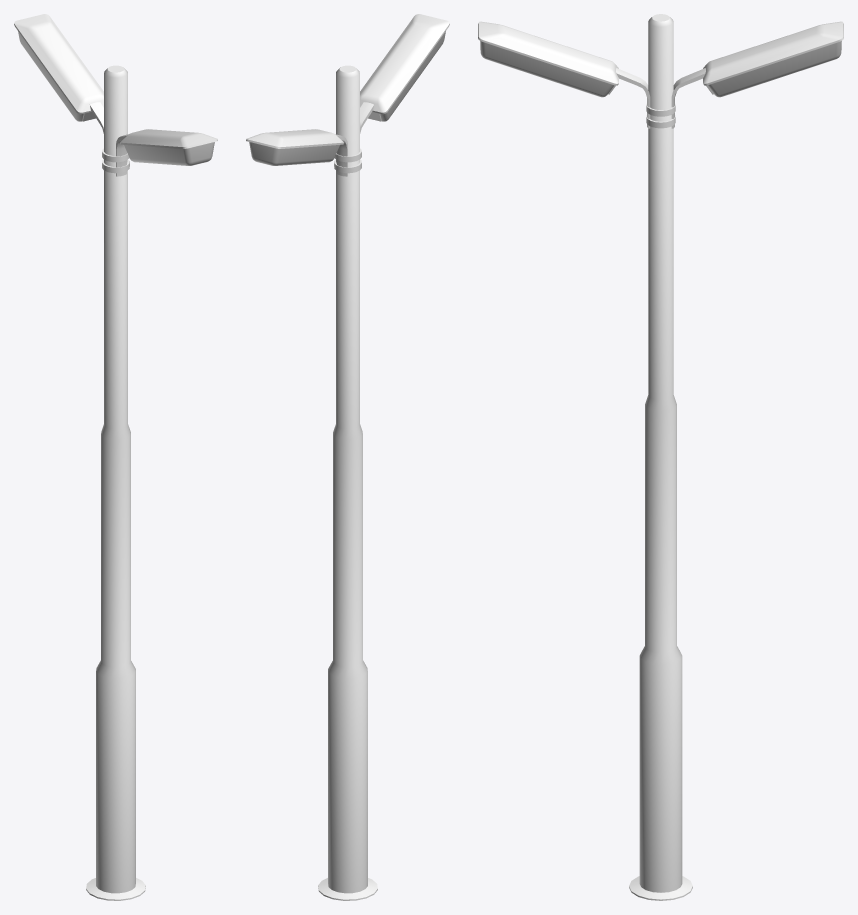
Rendered from StreetLight.glb.
3 views of the same model, side by side, from view 1: azimuth 30°, elevation 25°; view 2: azimuth 150°, elevation 25°; view 3: azimuth 270°, elevation 25° (orthographic). The views are drawn at different scales.
Parts seen in each view (by area): view 1: StreetLight; view 2: StreetLight; view 3: StreetLight.
Part boxes in pixels (<box>): StreetLight: <box>14,14,217,900</box>; StreetLight: <box>246,14,449,900</box>; StreetLight: <box>478,14,843,900</box>.
Size of the model in its own units: 0.3 by 4.5 by 1.72.
2 materials, 1 textured.
